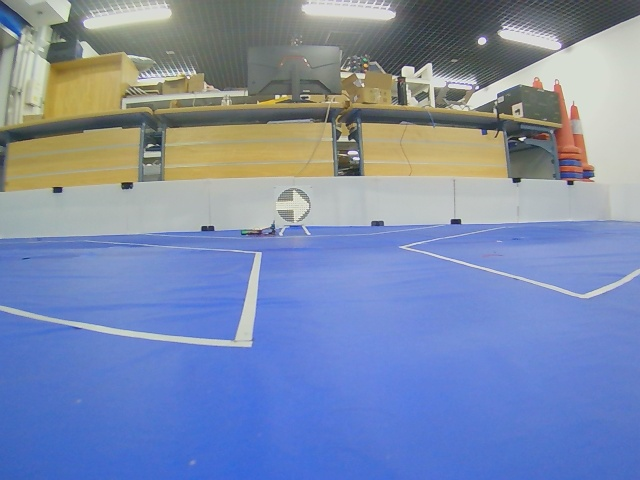right_yellow: (276, 188, 311, 223)
